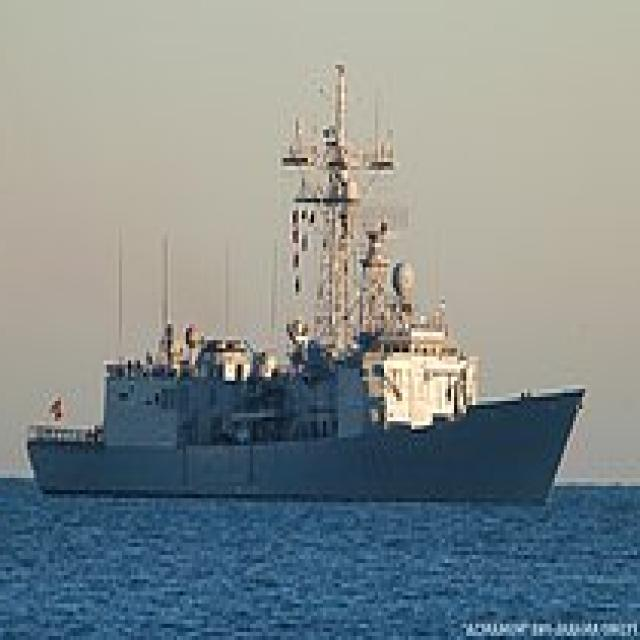Warship: (28, 57, 592, 506)
